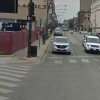crosswalk: (0, 64, 31, 100), (53, 58, 100, 64)
